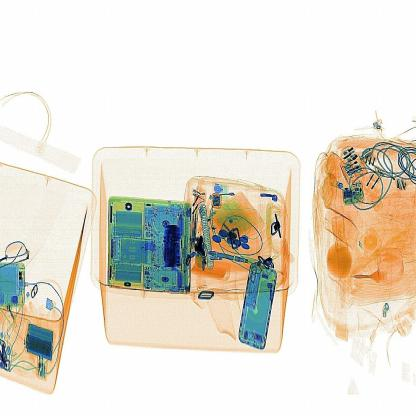scissors: (155, 211, 189, 276)
